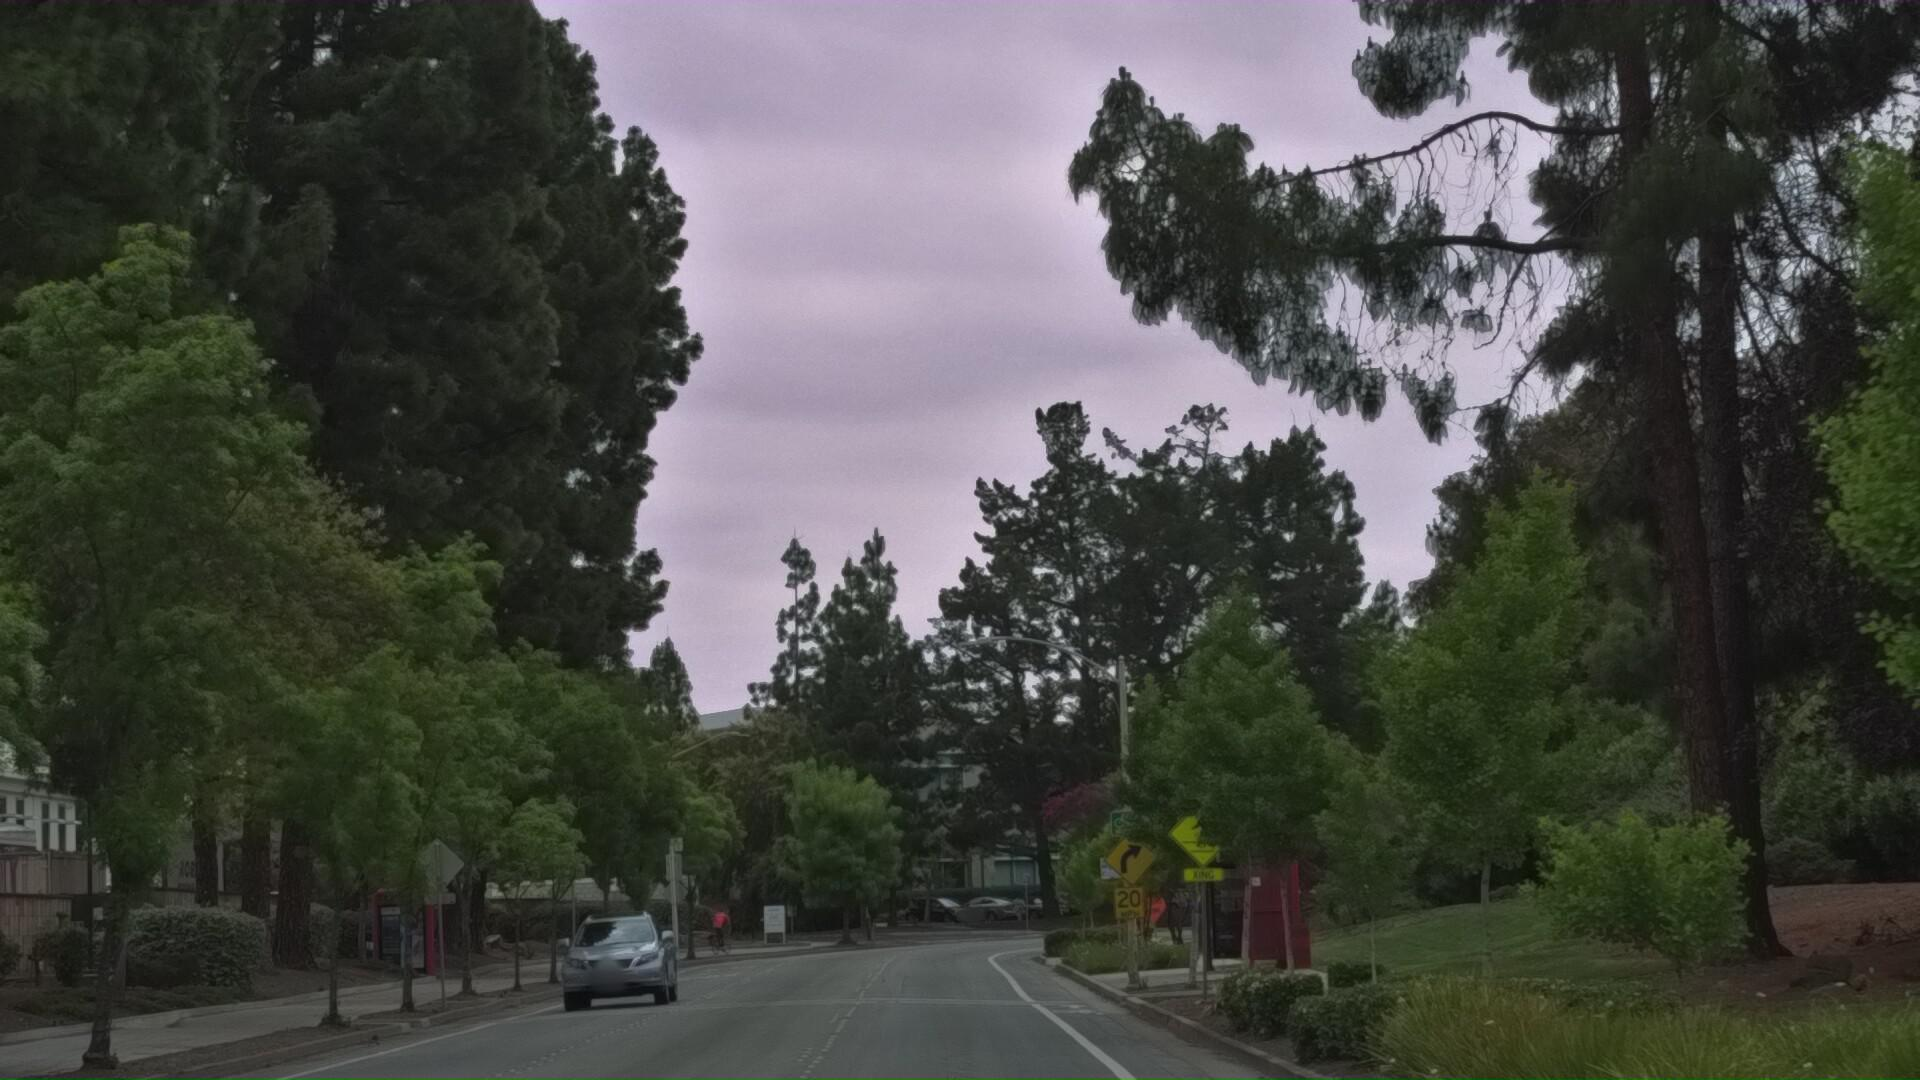car: (546, 1007, 688, 1080)
